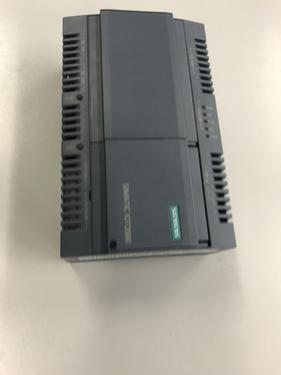device: (60, 10, 237, 264)
